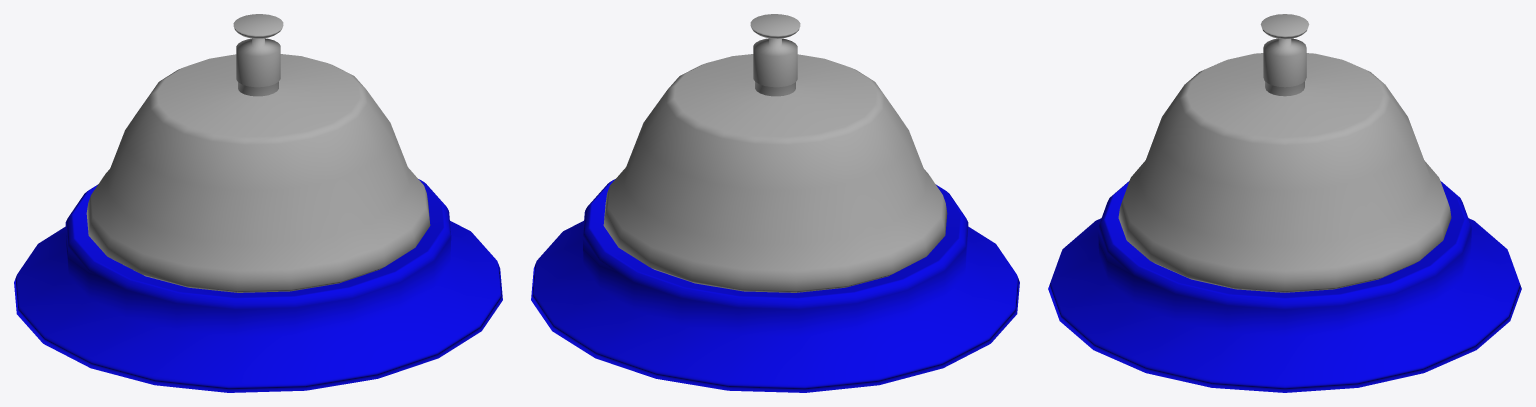
File: Bell.fbx
3 views of the same model, side by side, from view 1: azimuth 30°, elevation 25°; view 2: azimuth 150°, elevation 25°; view 3: azimuth 270°, elevation 25° (orthographic).
Parts seen in each view (by area): view 1: Bell2; view 2: Bell2; view 3: Bell2.
Boxes of the visible parts, x1,y1,x2,y2 form: Bell2: (14,14,502,392); Bell2: (531,14,1019,392); Bell2: (1048,14,1521,392).
Size of the model in its own units: 3.82 by 2.26 by 3.67.
